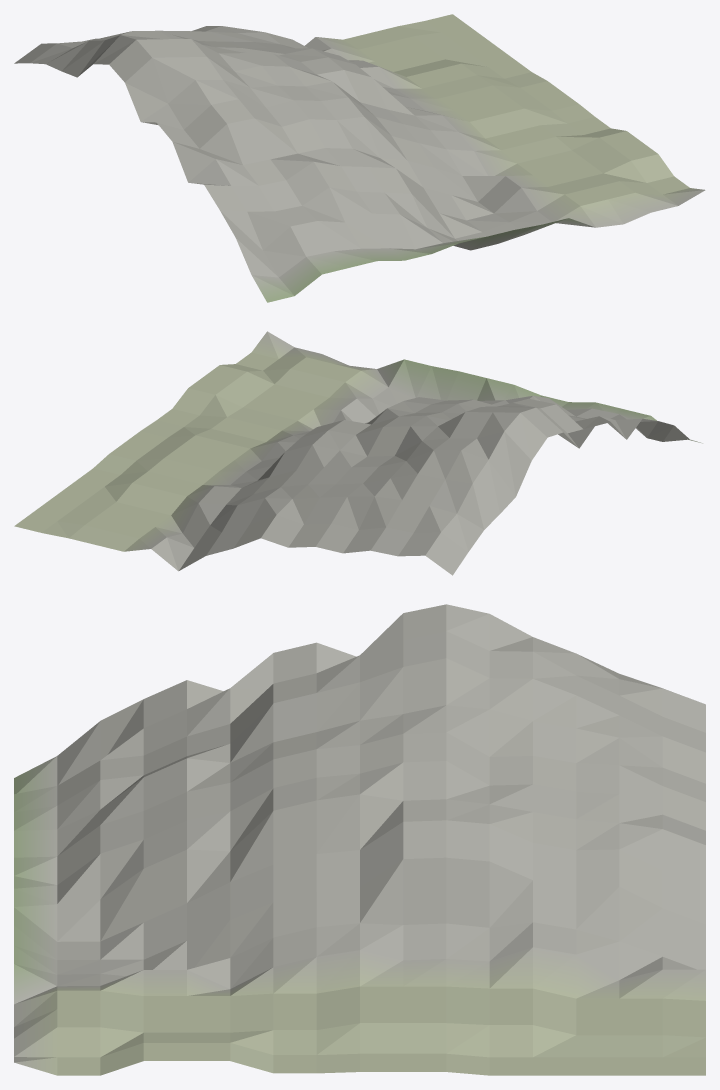
3 views of the same model, one above another, from view 1: azimuth 30°, elevation 25°; view 2: azimuth 150°, elevation 25°; view 3: azimuth 270°, elevation 25° (orthographic). The views are drawn at different scales.
Size of the model in its own units: 32 by 10.69 by 32.
